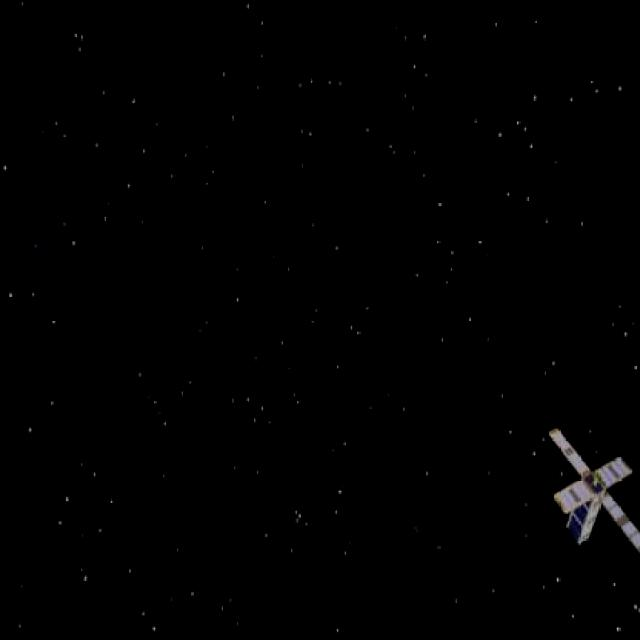medium_debris: (534, 427, 640, 558)
